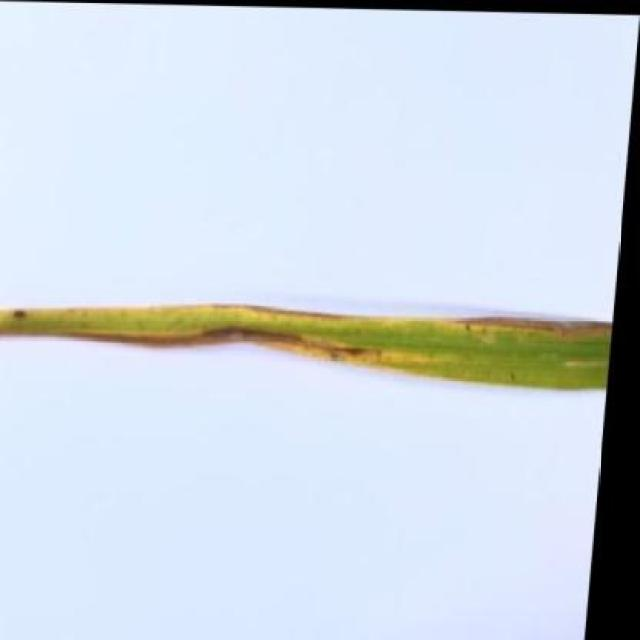Rice False Smut: (0, 295, 618, 390)
